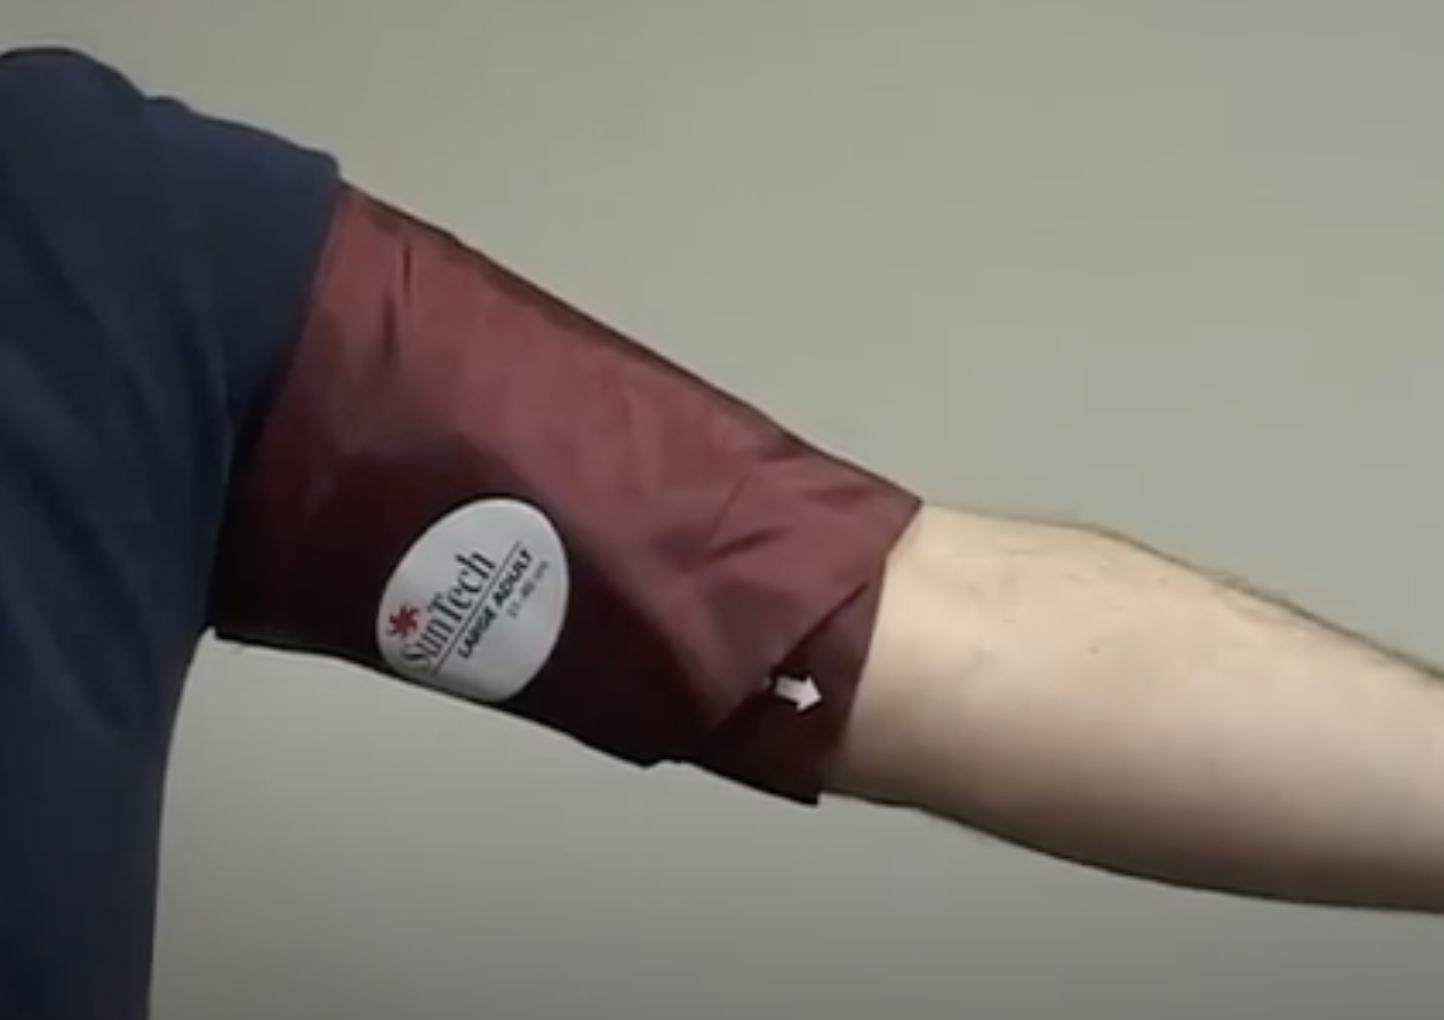cuff: (215, 180, 881, 827)
